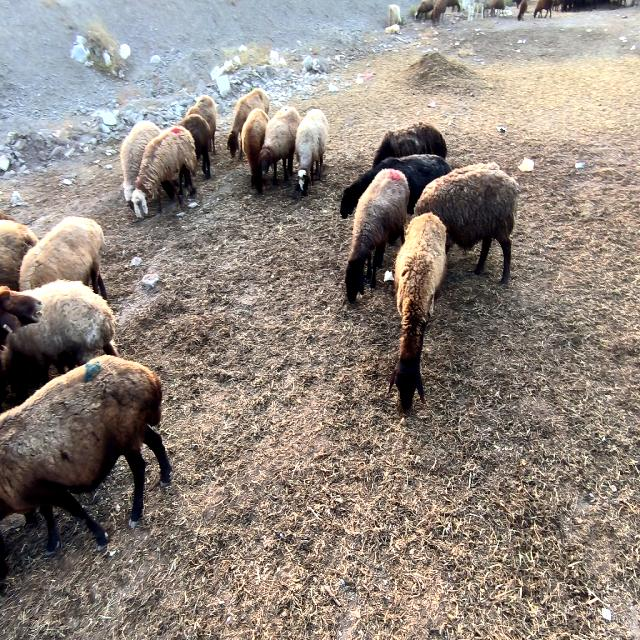sheep: (0, 355, 171, 552), (1, 280, 118, 399), (415, 163, 519, 284), (389, 213, 446, 416), (345, 168, 410, 302), (340, 155, 451, 218), (20, 218, 106, 298), (131, 125, 196, 218), (372, 122, 448, 166), (120, 122, 161, 202), (259, 107, 301, 184), (295, 108, 329, 195), (228, 88, 269, 159), (0, 220, 38, 290), (241, 108, 269, 192), (178, 113, 211, 178), (186, 95, 218, 152), (0, 287, 42, 325)
